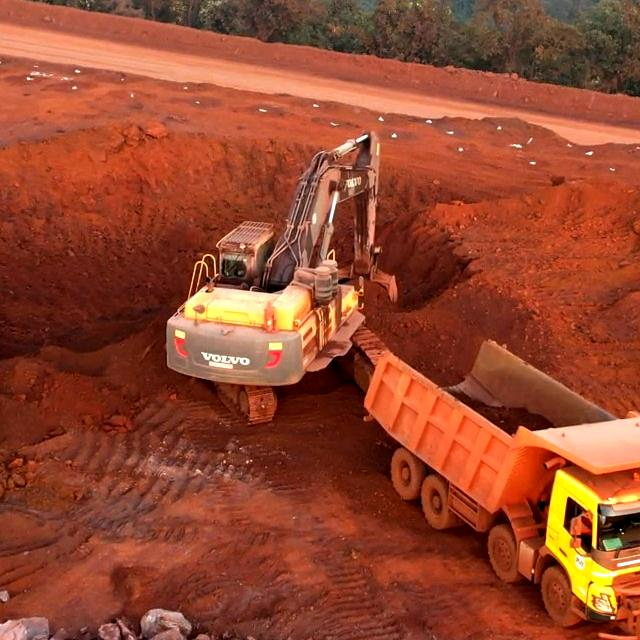Dumper truck: (502, 471, 640, 611)
Excavator: (192, 264, 341, 370)
